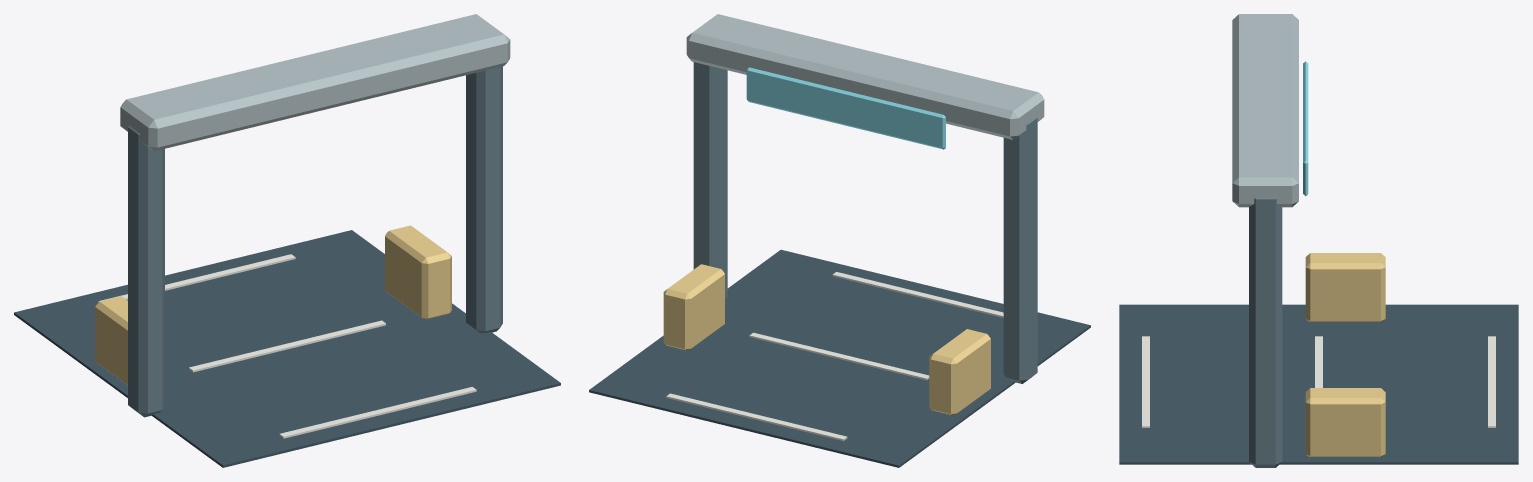
The model's file is depot.glb.
The picture shows the model from 3 angles, left to right: view 1: azimuth 30°, elevation 25°; view 2: azimuth 150°, elevation 25°; view 3: azimuth 270°, elevation 25°; orthographic projection. The views are drawn at different scales.
Parts seen in each view (by area): view 1: bay_floor, top, asset_depot__FP_Armour, asset_depot__FP_Hazard, asset_depot__FP_Ivory; view 2: bay_floor, top, asset_depot__FP_Armour, asset_depot__FP_Hazard, sign, asset_depot__FP_Ivory; view 3: bay_floor, top, asset_depot__FP_Hazard, asset_depot__FP_Armour, asset_depot__FP_Ivory, sign.
Boxes of the visible parts, x1,y1,x2,y2 form: bay_floor: (14, 230, 560, 467); top: (120, 14, 510, 151); asset_depot__FP_Armour: (128, 66, 502, 417); asset_depot__FP_Hazard: (95, 225, 451, 384); asset_depot__FP_Ivory: (98, 254, 476, 438); bay_floor: (589, 249, 1090, 467); top: (686, 14, 1044, 139); asset_depot__FP_Armour: (693, 62, 1037, 383); asset_depot__FP_Hazard: (663, 264, 990, 414); sign: (746, 67, 945, 149); asset_depot__FP_Ivory: (666, 272, 1003, 440); bay_floor: (1119, 304, 1518, 464); top: (1232, 14, 1298, 207); asset_depot__FP_Hazard: (1305, 253, 1385, 456); asset_depot__FP_Armour: (1249, 197, 1282, 467); asset_depot__FP_Ivory: (1142, 336, 1495, 427); sign: (1303, 61, 1308, 196).
Size of the model in its own units: 3.02 by 2.4 by 3.
